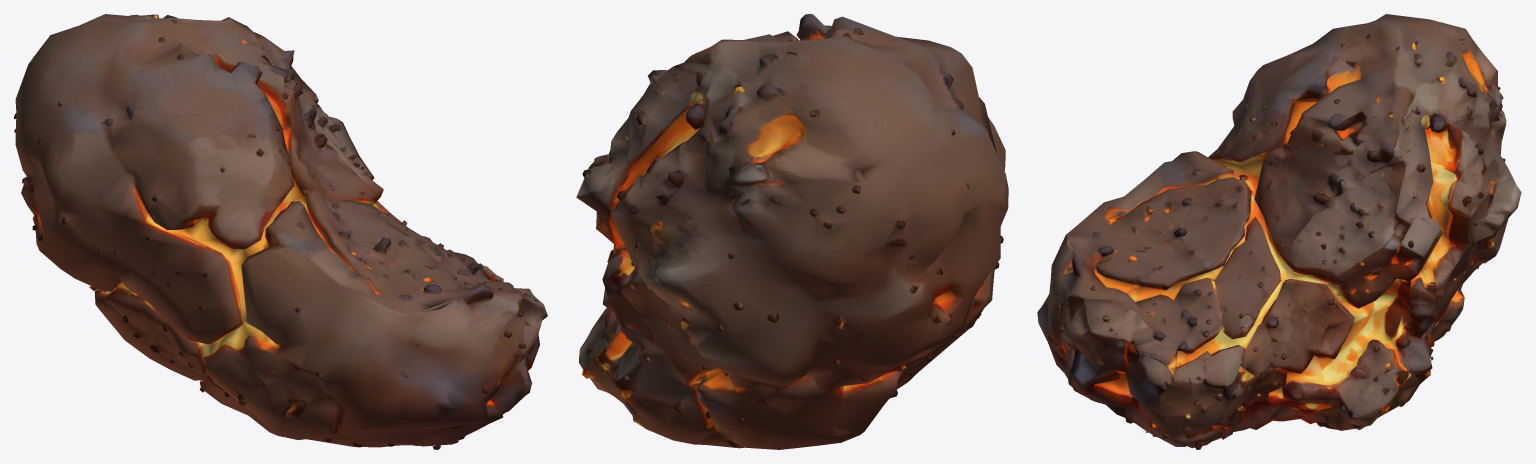
Rendered from meteor-shard.glb.
The picture shows the model from 3 angles, left to right: view 1: azimuth 30°, elevation 25°; view 2: azimuth 150°, elevation 25°; view 3: azimuth 270°, elevation 25°; orthographic projection. The views are drawn at different scales.
Parts seen in each view (by area): view 1: tripo_node_50ac2b4b-1284-4082-806a-107eaa33281d; view 2: tripo_node_50ac2b4b-1284-4082-806a-107eaa33281d; view 3: tripo_node_50ac2b4b-1284-4082-806a-107eaa33281d.
Part boxes in pixels (<box>): tripo_node_50ac2b4b-1284-4082-806a-107eaa33281d: <box>14,14,547,449</box>; tripo_node_50ac2b4b-1284-4082-806a-107eaa33281d: <box>576,14,1008,449</box>; tripo_node_50ac2b4b-1284-4082-806a-107eaa33281d: <box>1037,14,1521,449</box>.
Size of the model in its own units: 0.8434 by 0.7632 by 1.
Materials: 1 (1 with a texture image).
